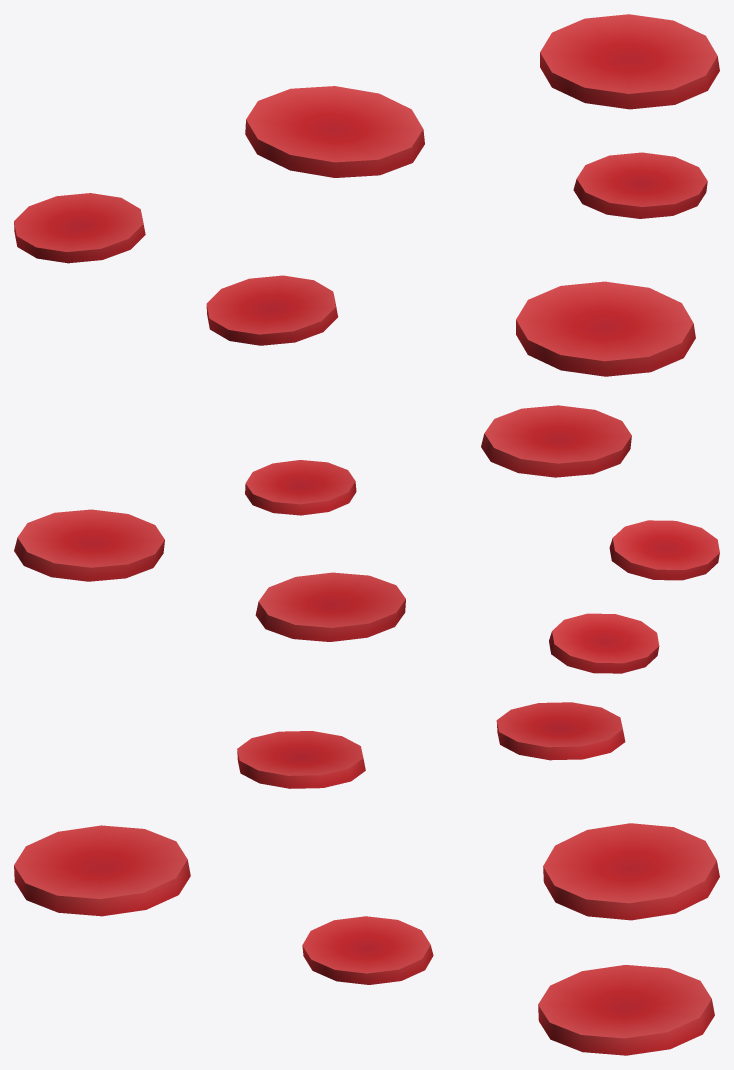
The model's file is food_ingredient_pepperoni_slices.obj.
3 renders of one model, top to bottom at view 1: azimuth 30°, elevation 25°; view 2: azimuth 150°, elevation 25°; view 3: azimuth 270°, elevation 25°, orthographic. The views are drawn at different scales.
Visible parts, largest first — view 1: food_ingredient_pepperoni_slices_Cylinder.336; view 2: food_ingredient_pepperoni_slices_Cylinder.336; view 3: food_ingredient_pepperoni_slices_Cylinder.336.
Part boxes in pixels (x1,y1,x2,y2): food_ingredient_pepperoni_slices_Cylinder.336: (14,14,719,376); food_ingredient_pepperoni_slices_Cylinder.336: (14,405,719,673); food_ingredient_pepperoni_slices_Cylinder.336: (14,702,719,1055).
Size of the model in its own units: 1.23 by 0.0422 by 1.07.
1 material, 1 textured.
